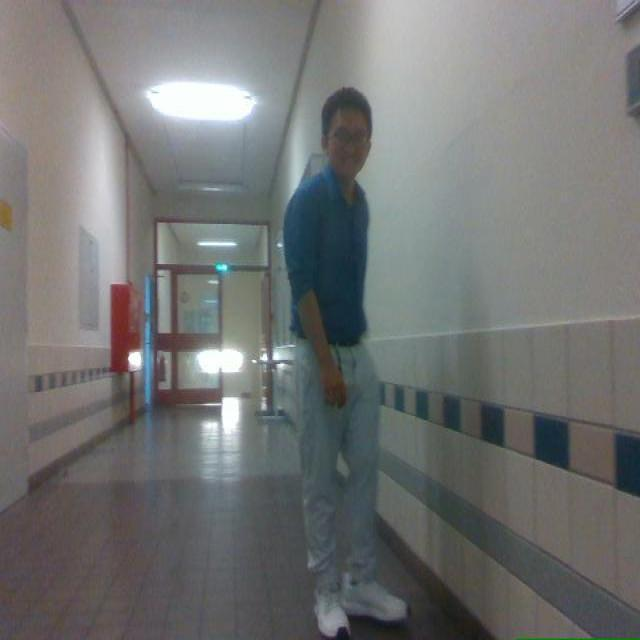humans: (284, 88, 407, 639)
